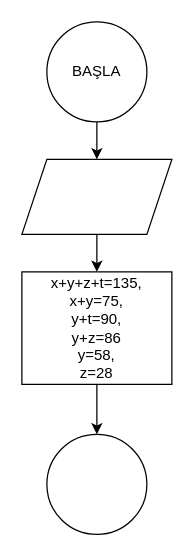
Image size: 194x556. Some labels were removed from this diagram. Here are the shapes that lost their labels. From the top down, the centre of each, then its label:
At [96,196]: "135 öğrenci, 75A,90B,86AB".
At [96,483]: "DUR".
